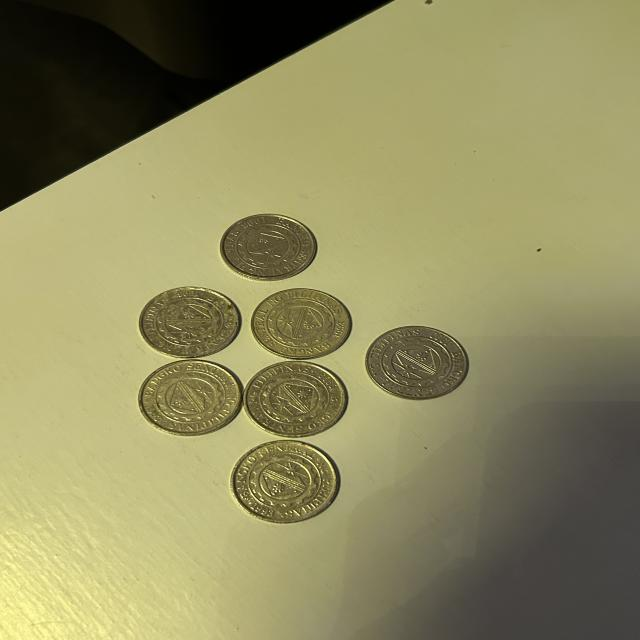1_Old_Back: (244, 452, 326, 513), (252, 369, 334, 427), (375, 334, 458, 391), (150, 370, 233, 426), (152, 292, 229, 348), (264, 298, 338, 346), (234, 223, 305, 272)
